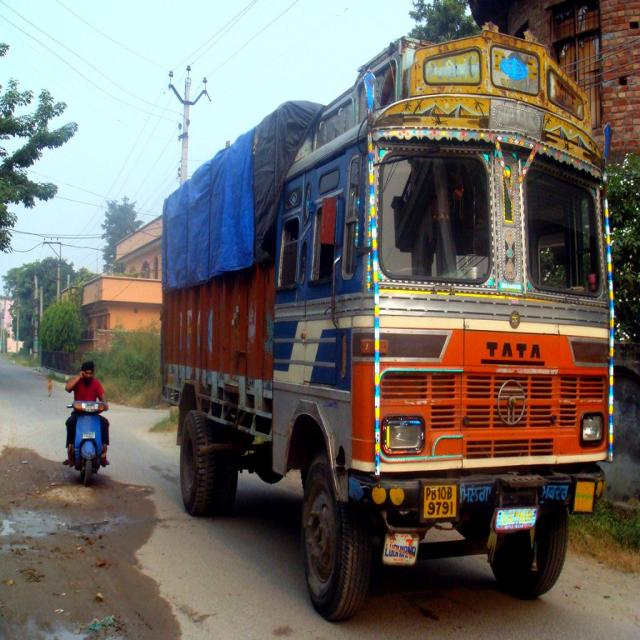Plate: (419, 481, 460, 522)
truck: (160, 29, 620, 628)
